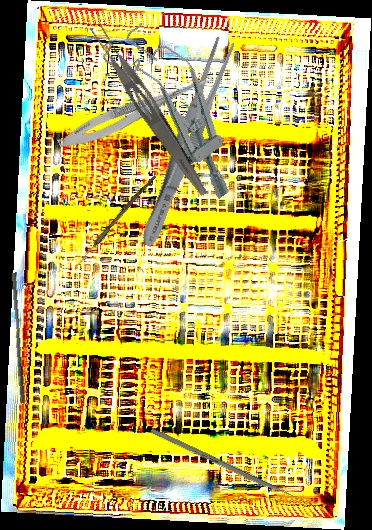Dressing Forceps: (84, 19, 216, 199), (134, 35, 239, 251)
Micro Scissor: (54, 63, 219, 157)
Pusher: (149, 427, 310, 507), (6, 272, 31, 404)
Speculum: (97, 10, 263, 208)
Surgical Spoon: (72, 172, 157, 272)
